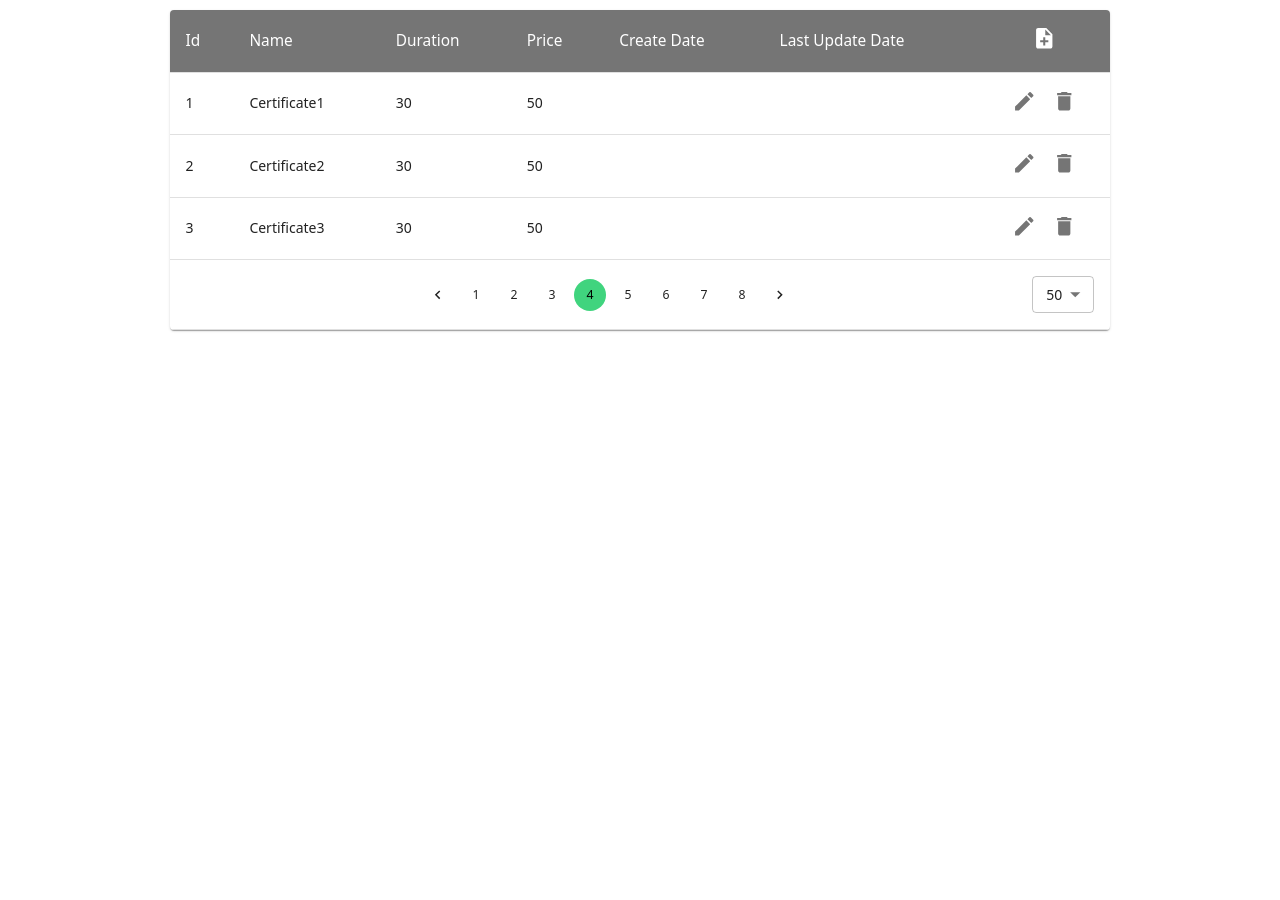
Test: coupon list component › open delete modal window
Expected: the text "Delete Confirmation" is not shown
Click the 2nd icon with test id "DeleteIcon" at (1064, 163), box left=1052, top=151, right=1077, bottom=176
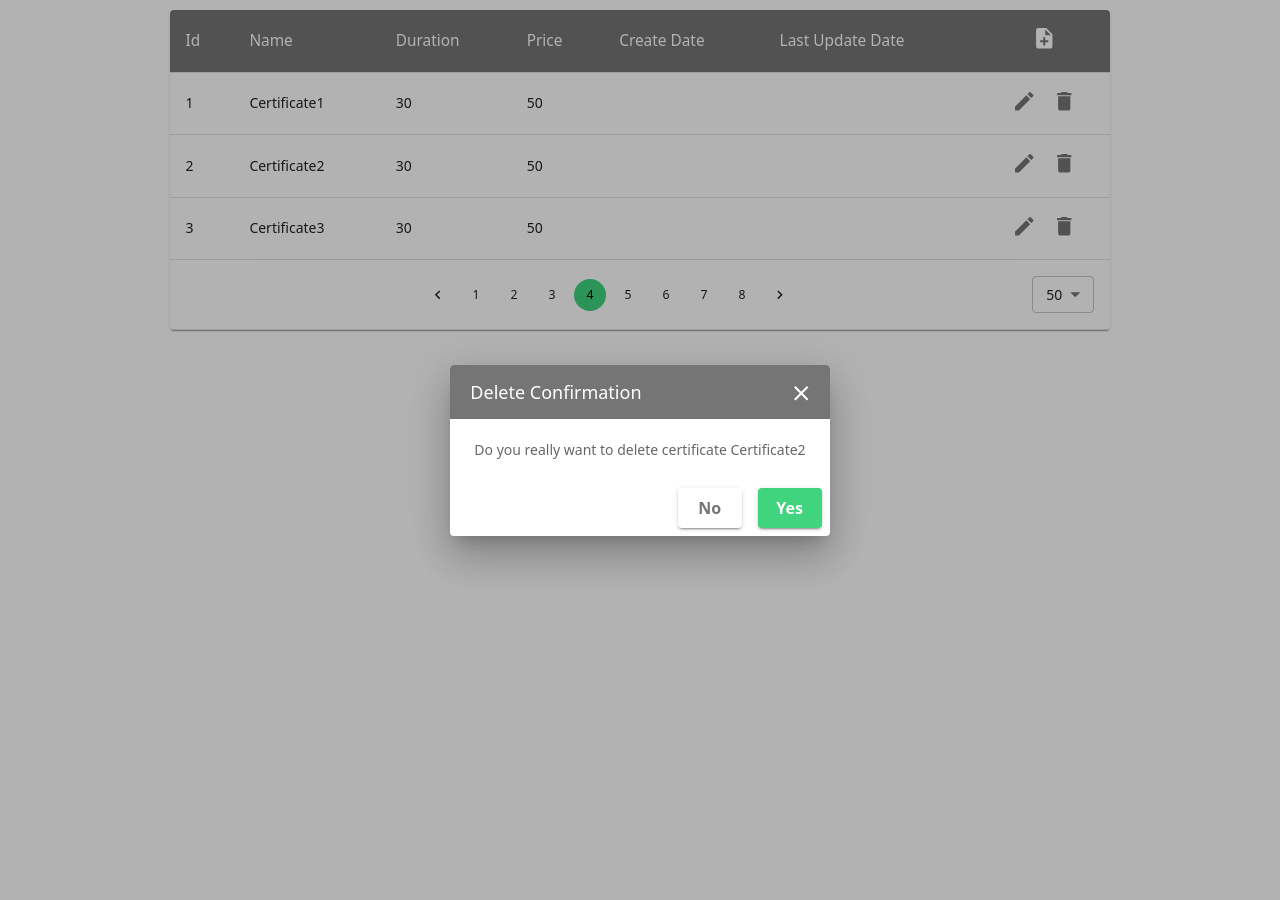
Expected: the text "Delete Confirmation" is shown, left=470, top=380, right=642, bottom=404
